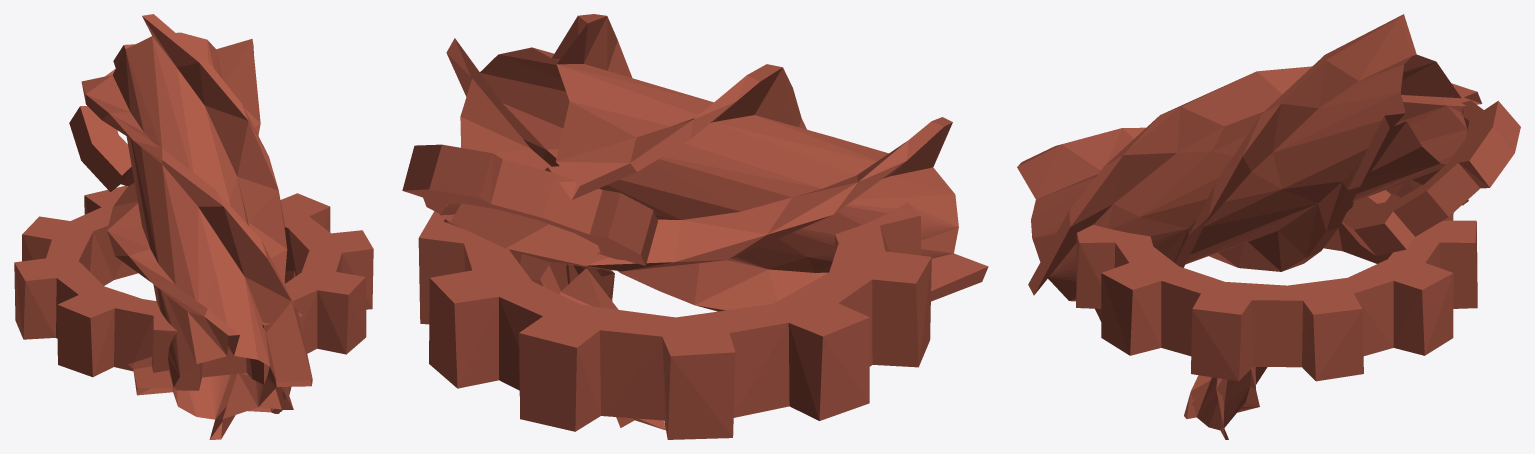
Rendered from scrap.fbx.
The picture shows the model from 3 angles, left to right: view 1: azimuth 30°, elevation 25°; view 2: azimuth 150°, elevation 25°; view 3: azimuth 270°, elevation 25°; orthographic projection. The views are drawn at different scales.
Visible parts, largest first — view 1: Gear; view 2: Gear; view 3: Gear.
Part boxes in pixels (x1,y1,x2,y2): Gear: [14, 14, 373, 439]; Gear: [402, 14, 988, 439]; Gear: [1017, 14, 1520, 439].
Size of the model in its own units: 236 by 261 by 300.
